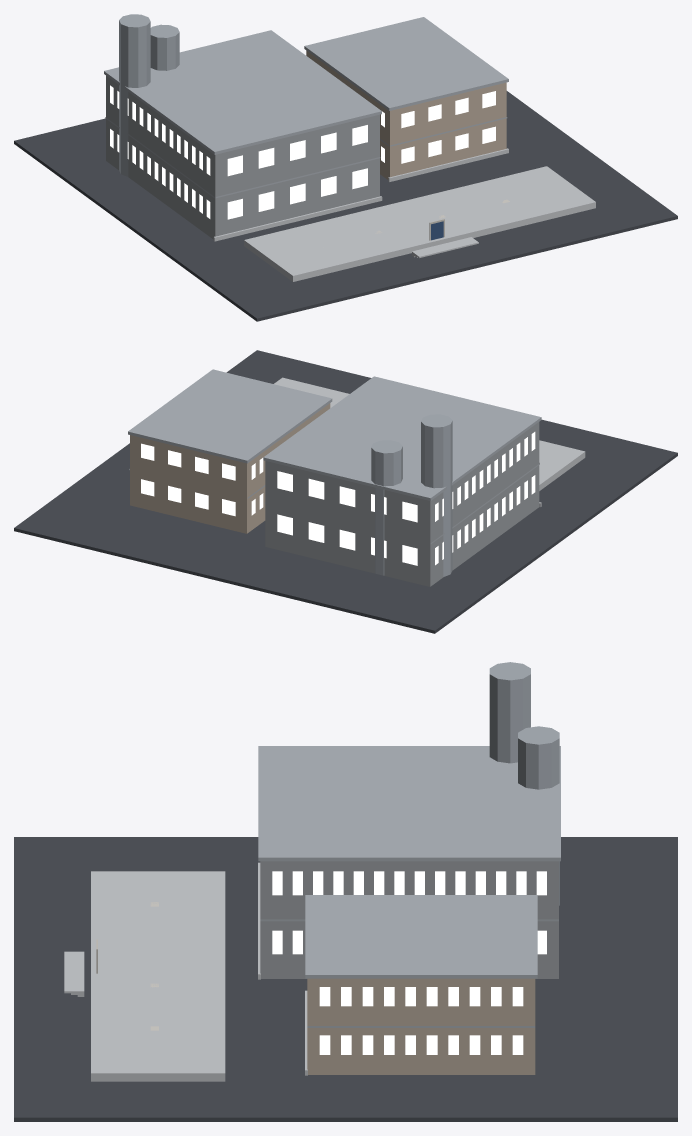
3 views of the same model, one above another, from view 1: azimuth 30°, elevation 25°; view 2: azimuth 150°, elevation 25°; view 3: azimuth 270°, elevation 25° (orthographic). The views are drawn at different scales.
Visible parts, largest first — view 1: b38_x4; view 2: b38_x4; view 3: b38_x4.
Part boxes in pixels (bbox=[...]): b38_x4: bbox=[14, 14, 677, 321]; b38_x4: bbox=[14, 350, 677, 633]; b38_x4: bbox=[14, 662, 677, 1121].
Size of the model in its own units: 3.96 by 1.38 by 3.96.
